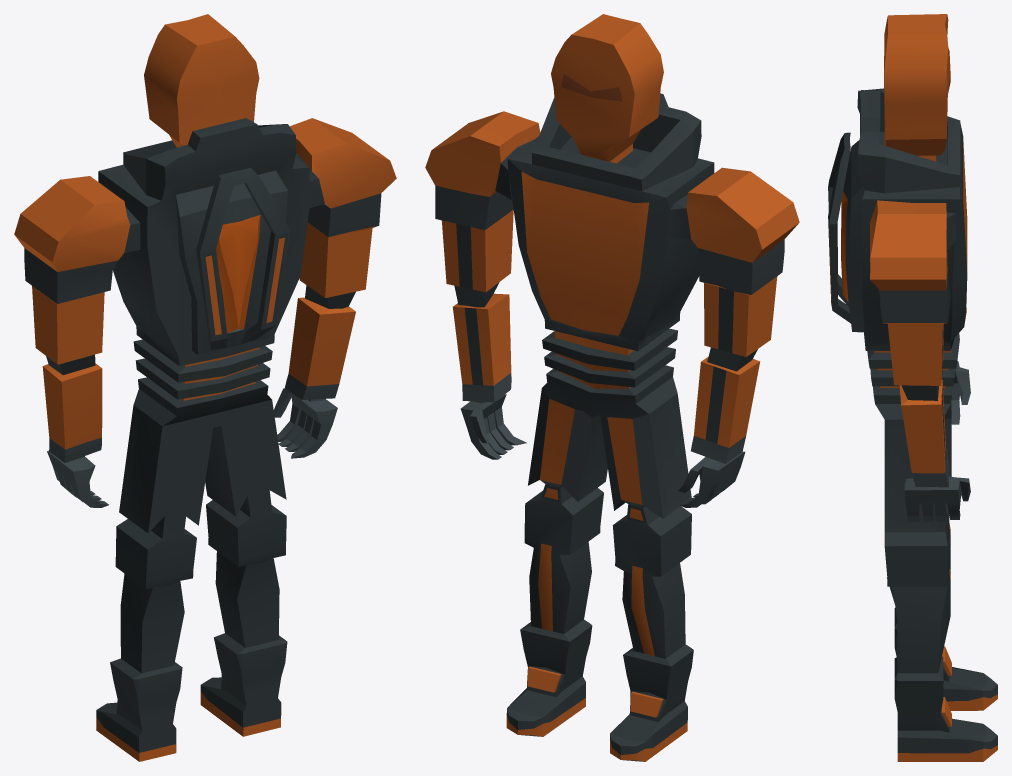
The model's file is PERSONAJE ROJO.fbx.
The picture shows the model from 3 angles, left to right: view 1: azimuth 30°, elevation 25°; view 2: azimuth 150°, elevation 25°; view 3: azimuth 270°, elevation 25°; orthographic projection. The views are drawn at different scales.
Visible parts, largest first — view 1: Robot; view 2: Robot; view 3: Robot.
Part boxes in pixels (<box>): Robot: <box>14,14,396,761</box>; Robot: <box>425,14,799,761</box>; Robot: <box>828,14,997,761</box>.
Size of the model in its own units: 138 by 270 by 59.05.
1 material, 1 textured.
